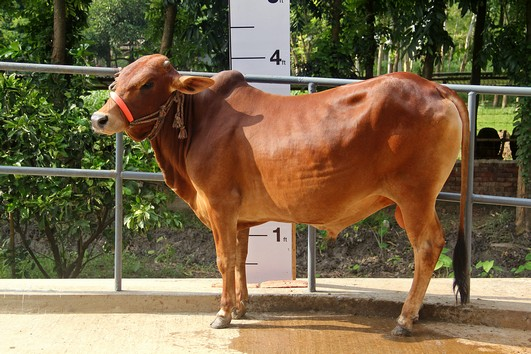cow: (85, 49, 475, 339)
